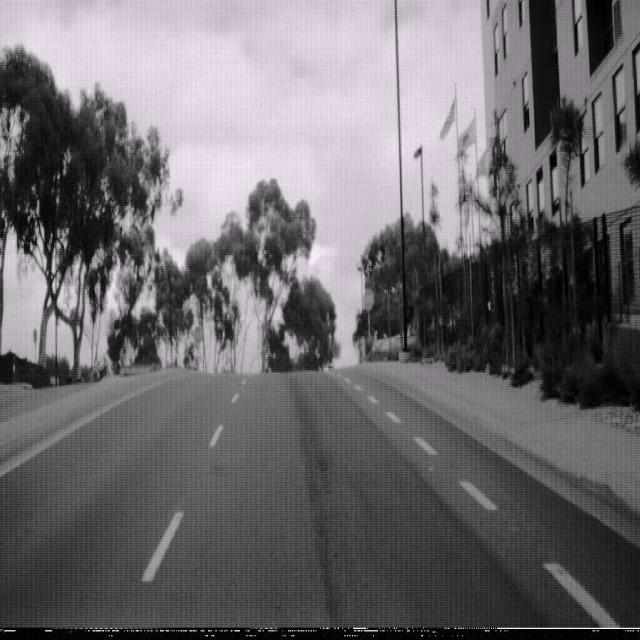stop_sign: (363, 288, 374, 310), (192, 325, 202, 344)
